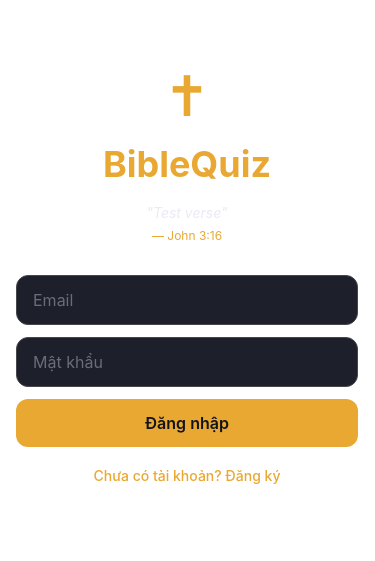
Test: LoginScreen › register mode requires name
Click the text "Chưa có tài khoản? Đăng ký".
click(187, 476)  # box [94, 467, 280, 484]
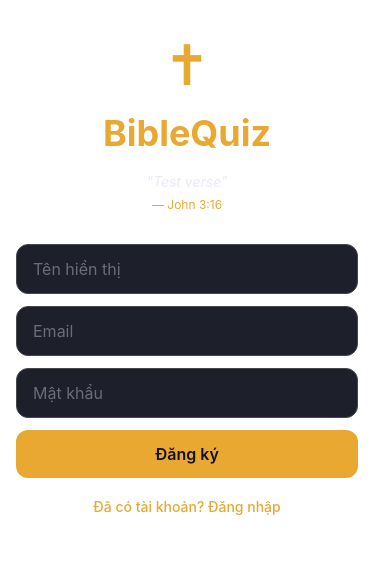
Type "test@test.com" into the field with placeholder "Email".
click(187, 331); type("test@test.com")  # box [16, 306, 358, 356]
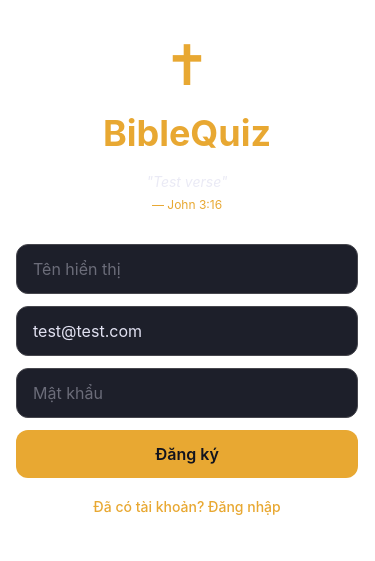
Type "pass" into the password field with placeholder "Mật khẩu".
click(187, 393); type("pass")  # box [16, 368, 358, 418]
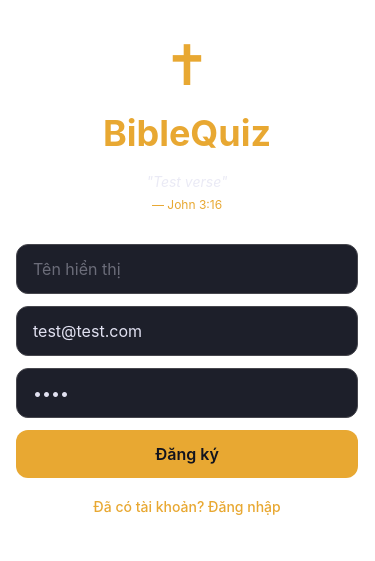
Click the text "Đăng ký".
click(187, 454)  # box [155, 444, 219, 464]
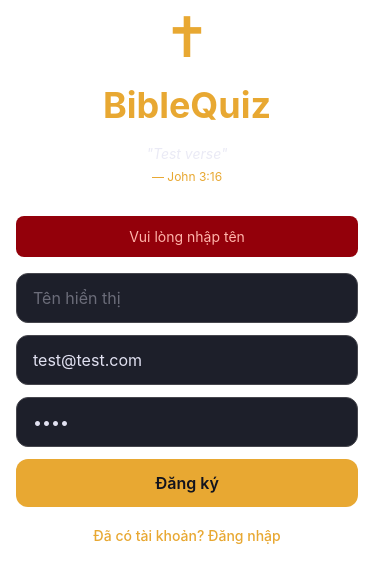
expect the text "Vui lòng nhập tên" is shown: met, box [129, 228, 245, 244]
